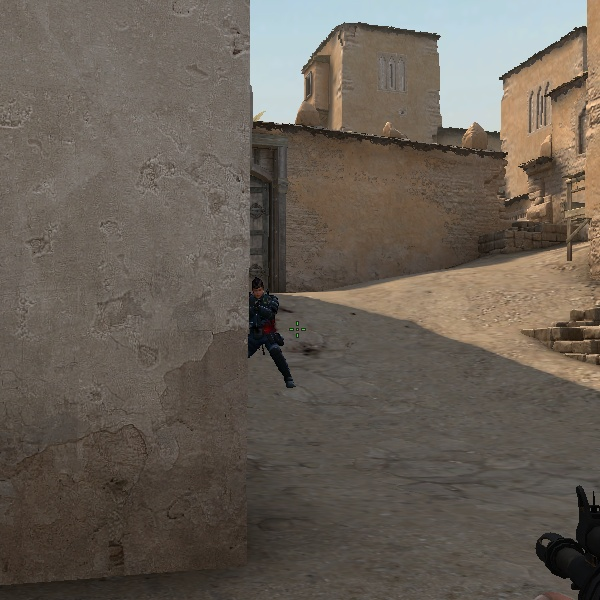ct_body: (250, 277, 294, 388)
ct_head: (251, 277, 265, 300)
